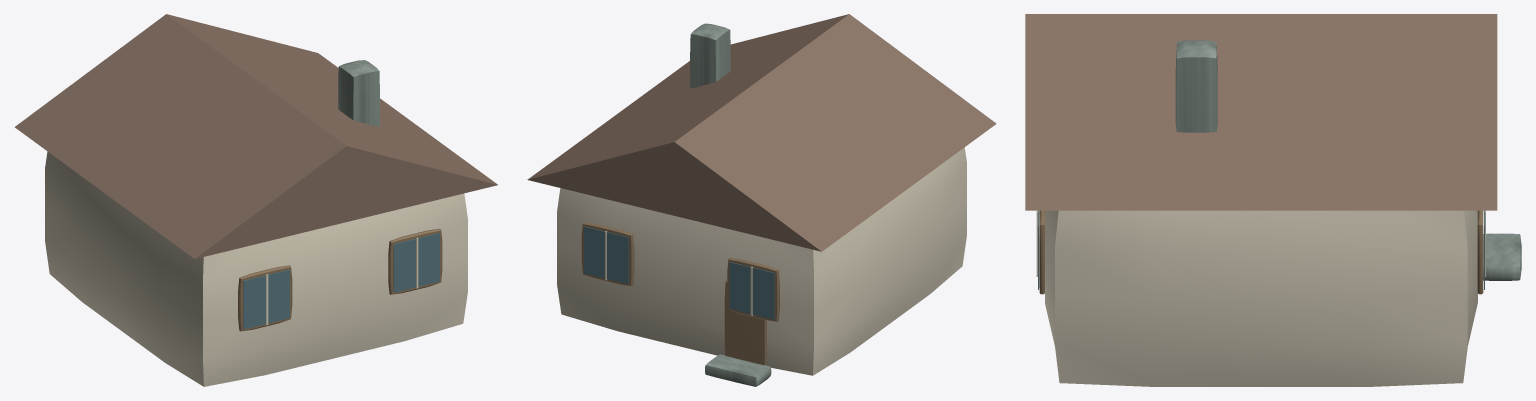
The model's file is farmhouse_variant_01.glb.
3 views of the same model, side by side, from view 1: azimuth 30°, elevation 25°; view 2: azimuth 150°, elevation 25°; view 3: azimuth 270°, elevation 25° (orthographic). The views are drawn at different scales.
Visible parts, largest first — view 1: gable_roof, static_plaster, static_window_building, static_stone, static_wood; view 2: gable_roof, static_plaster, static_window_building, static_stone, static_wood; view 3: gable_roof, static_plaster, static_stone, static_wood.
Boxes of the visible parts, bbox=[...] form: gable_roof: bbox=[14, 14, 497, 258]; static_plaster: bbox=[45, 151, 467, 386]; static_window_building: bbox=[243, 233, 439, 329]; static_stone: bbox=[338, 60, 379, 126]; static_wood: bbox=[238, 228, 442, 331]; gable_roof: bbox=[527, 14, 996, 251]; static_plaster: bbox=[557, 147, 966, 375]; static_window_building: bbox=[584, 226, 774, 319]; static_stone: bbox=[690, 23, 771, 386]; static_wood: bbox=[581, 222, 779, 365]; gable_roof: bbox=[1025, 14, 1497, 210]; static_plaster: bbox=[1036, 210, 1485, 386]; static_stone: bbox=[1175, 40, 1521, 280]; static_wood: bbox=[1039, 210, 1483, 294].
Bounding box in the file's own units: 7.1 × 5.3 × 7.68.
5 materials, 1 textured.
